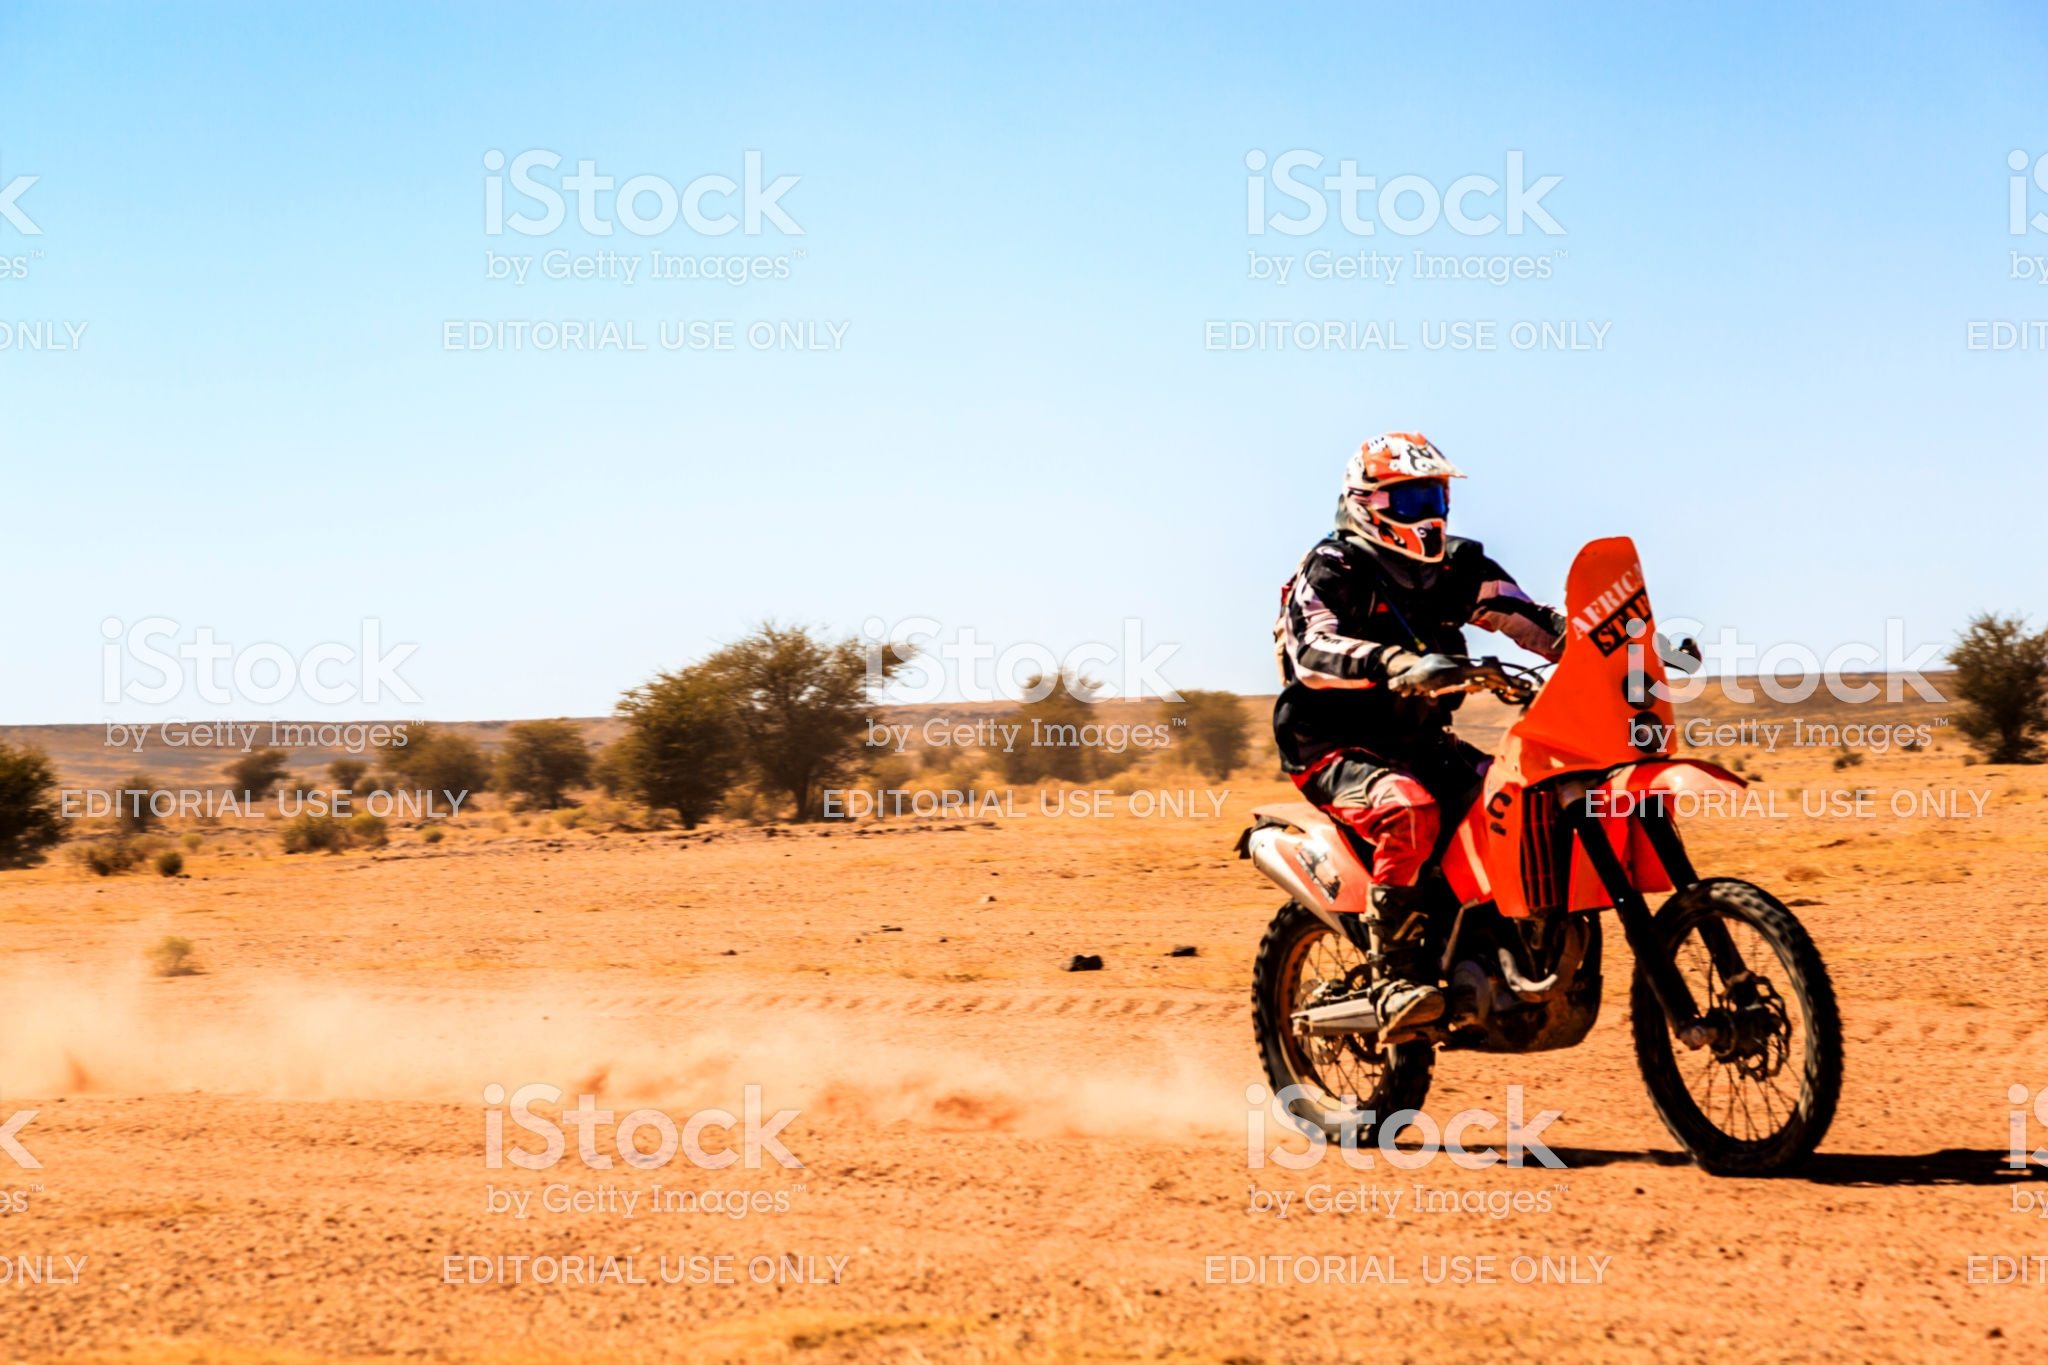helmet: (1345, 420, 1491, 574)
